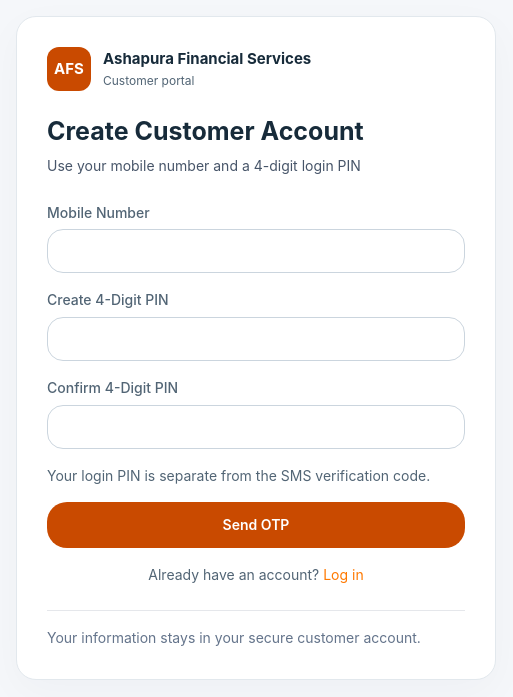
Test: Customer registration › blocks expired OTP and handles verification failure
Type "9000000088" into the field labelled "Mobile Number" at (256, 251), box 47,229 -> 465,273
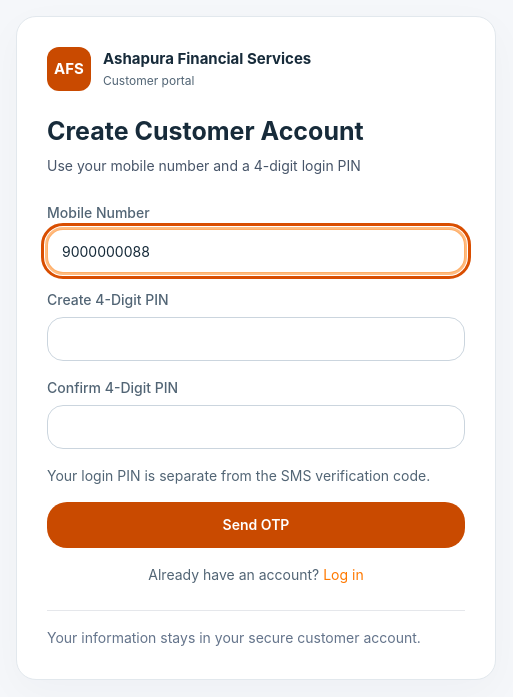
Type "0472" into the password field labelled "Create 4-Digit PIN" at (256, 339), box 47,317 -> 465,361
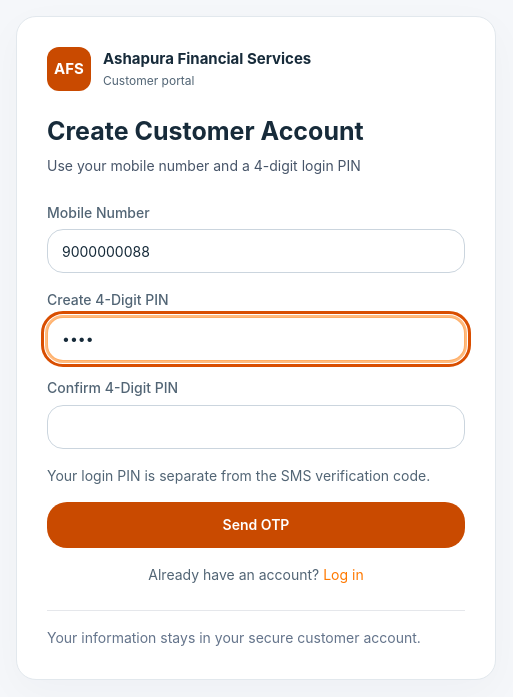
Type "0472" into the password field labelled "Confirm 4-Digit PIN" at (256, 427), box 47,405 -> 465,449
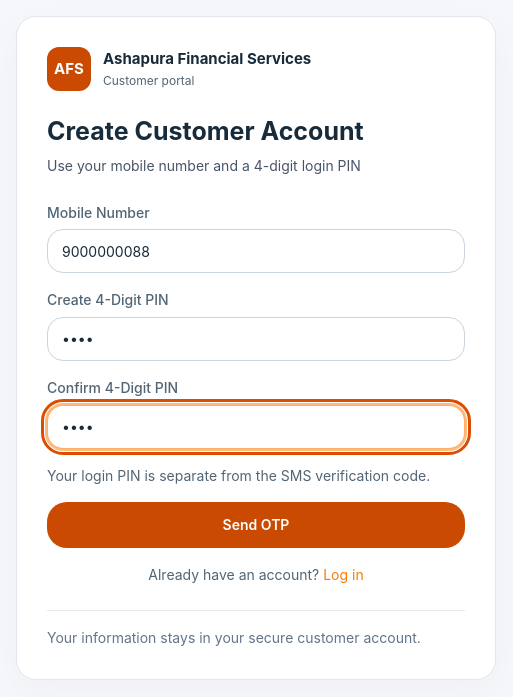
Click the button "Send OTP" at (256, 525), box 47,502 -> 465,548
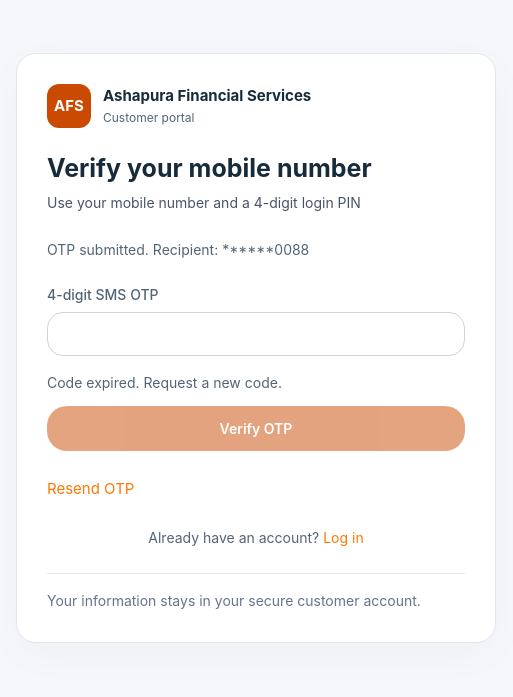
Expected: the text "Code expired. Request a new code." is shown, 47,374 -> 282,391
Expected: the button "Verify OTP" is disabled, 47,406 -> 465,451
Expected: the button "Resend OTP" is enabled, 47,467 -> 134,511
